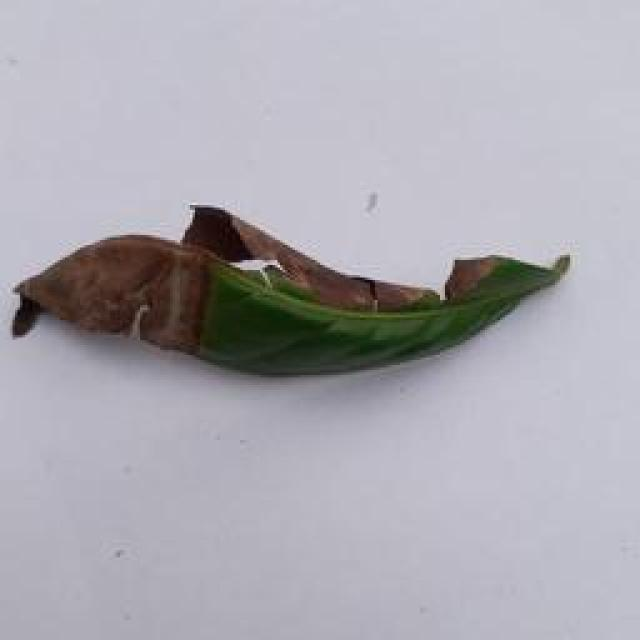Brown Blight: (6, 193, 584, 384)
